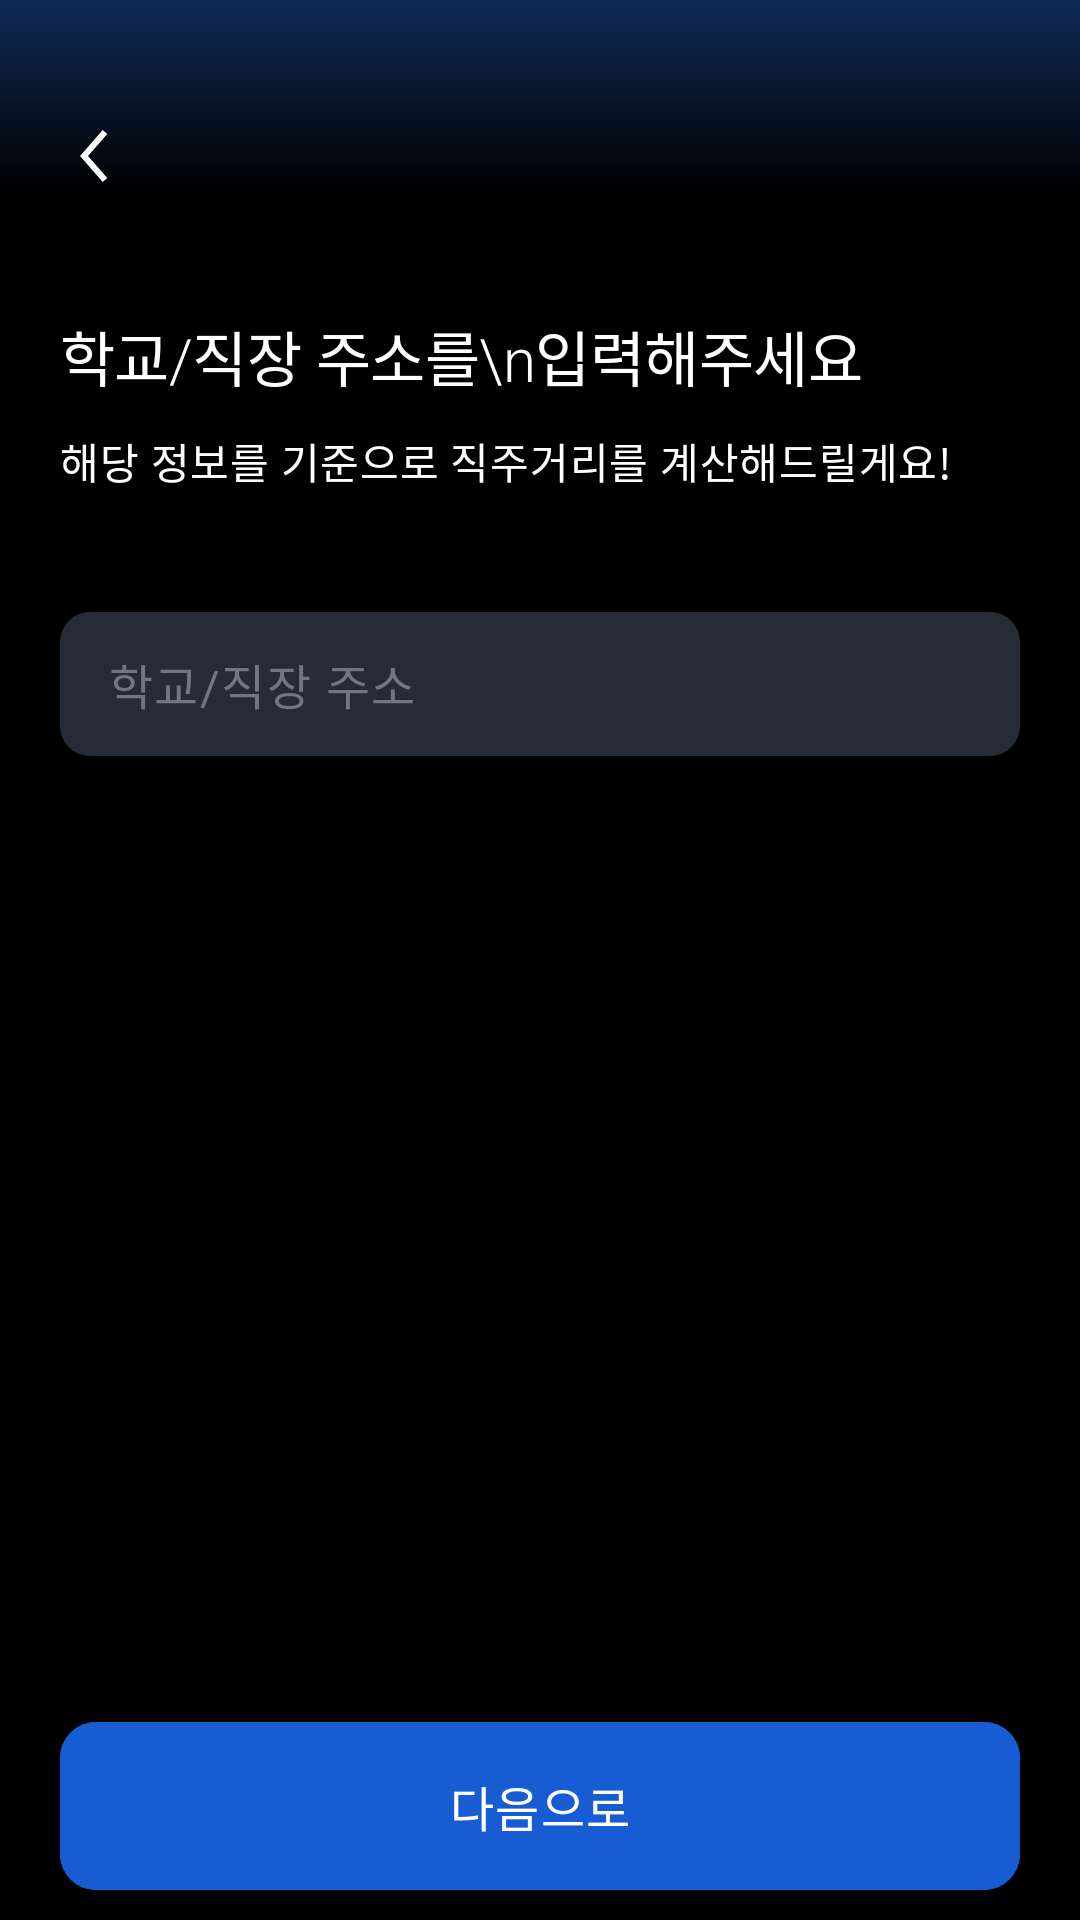

Point at icon controls on the screen. Image size 1080px x 1920px, points as (x=x, y=y).
back: (x=96, y=151)
